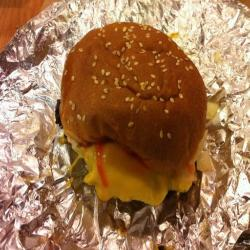burger: (44, 21, 220, 222)
